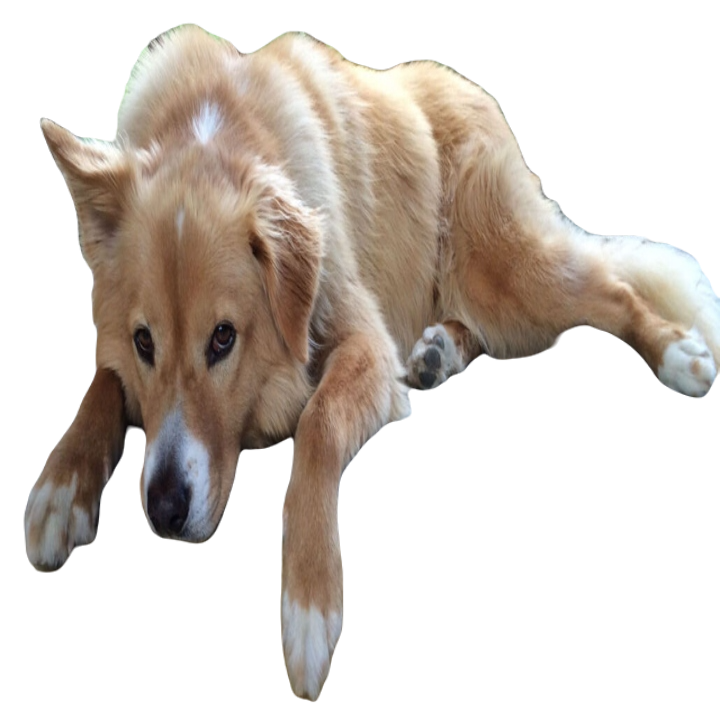Dog: (18, 22, 719, 708)
